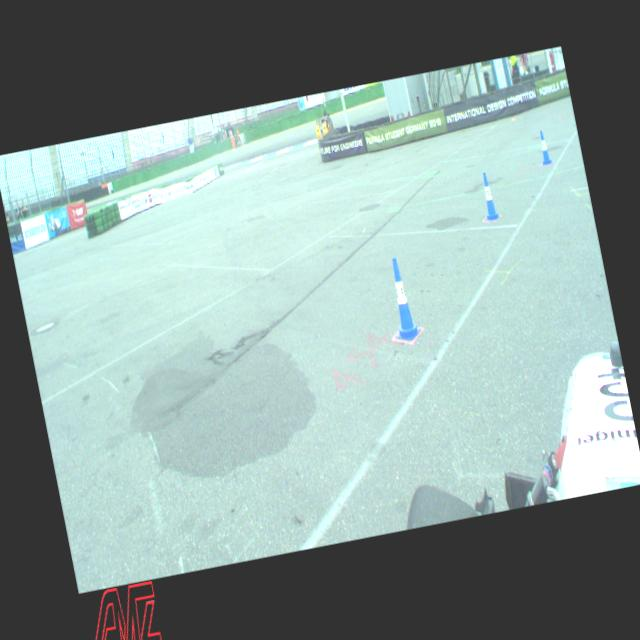blue_cone: (382, 255, 422, 343), (476, 170, 501, 222), (535, 128, 552, 164)
